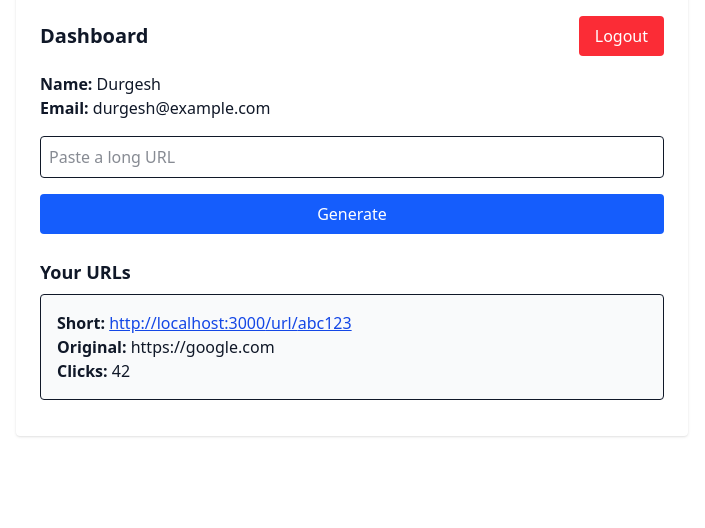
Test: Dashboard Component › generates new short URL
Type "https://test.com" into the field with placeholder "Paste a long URL".
click(352, 157); type("https://test.com")  # box x1=40 y1=136 x2=664 y2=178
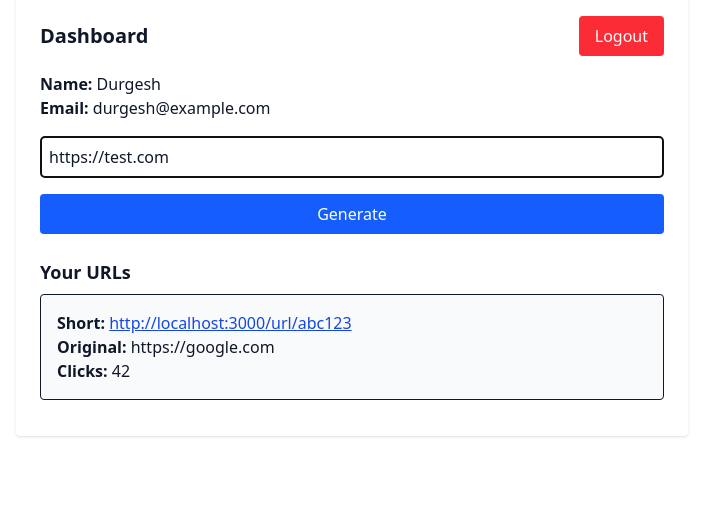
Click the button "Generate".
click(352, 214)  # box x1=40 y1=194 x2=664 y2=234
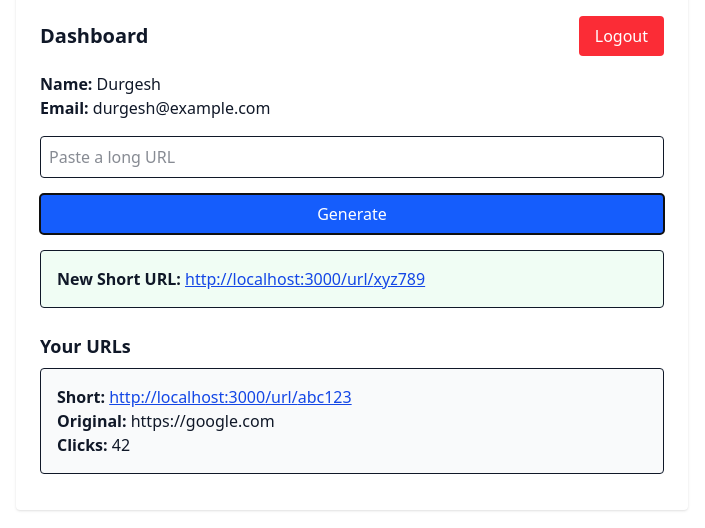
Now the text "New Short URL:" is shown, box x1=57 y1=268 x2=181 y2=290
Now the field with placeholder "Paste a long URL" is empty, box x1=40 y1=136 x2=664 y2=178
